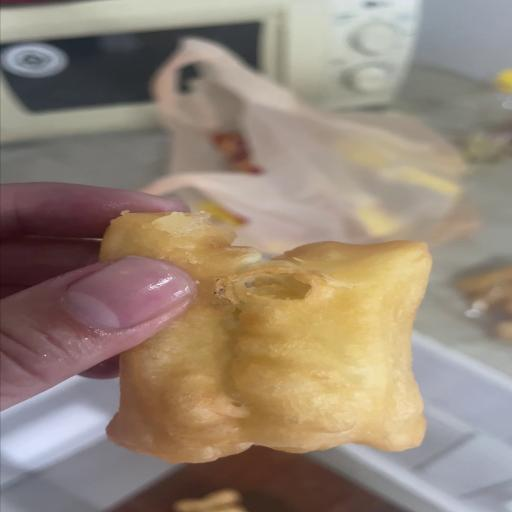street_golden_defect: (99, 211, 430, 462)
